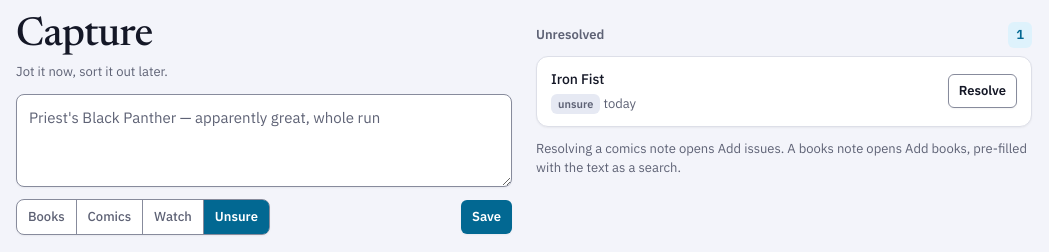
Test: /inbox (AC-1, AC-3, AC-5) › an Unsure note with no run to add to holds Comics as a button with its reason
Click the button "Resolve". click: (982, 91)
box: 948,74 -> 1017,108
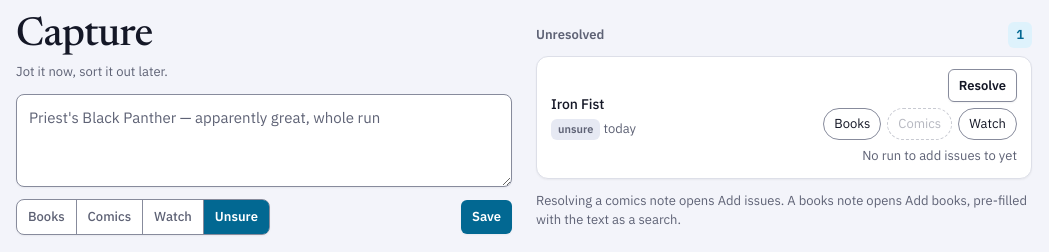
Check: the button "Comics" in the row of "Iron Fist" is shown, box 887,108 -> 952,140
Check: the text "No run to add issues to yet" is shown, box 862,146 -> 1017,166
